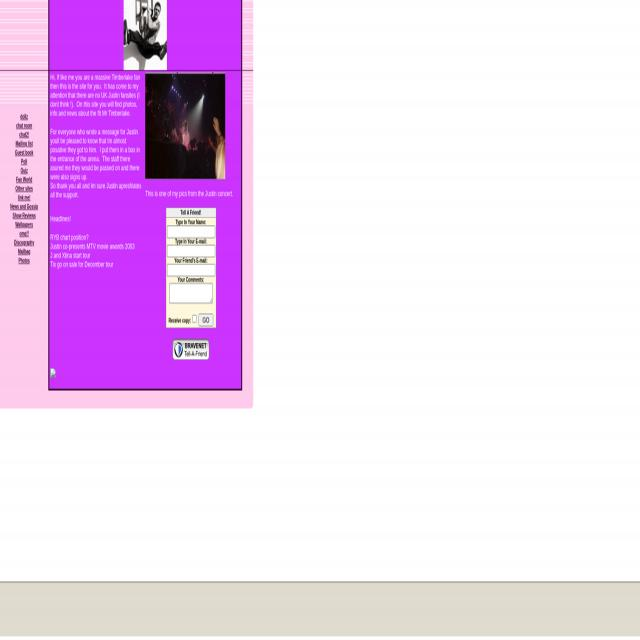button: (145, 72, 225, 180), (123, 0, 167, 70), (173, 339, 209, 360), (242, 391, 254, 408), (50, 368, 56, 378)
field: (167, 226, 215, 238), (167, 245, 215, 257), (167, 264, 215, 276), (198, 314, 214, 326), (192, 314, 197, 322)
